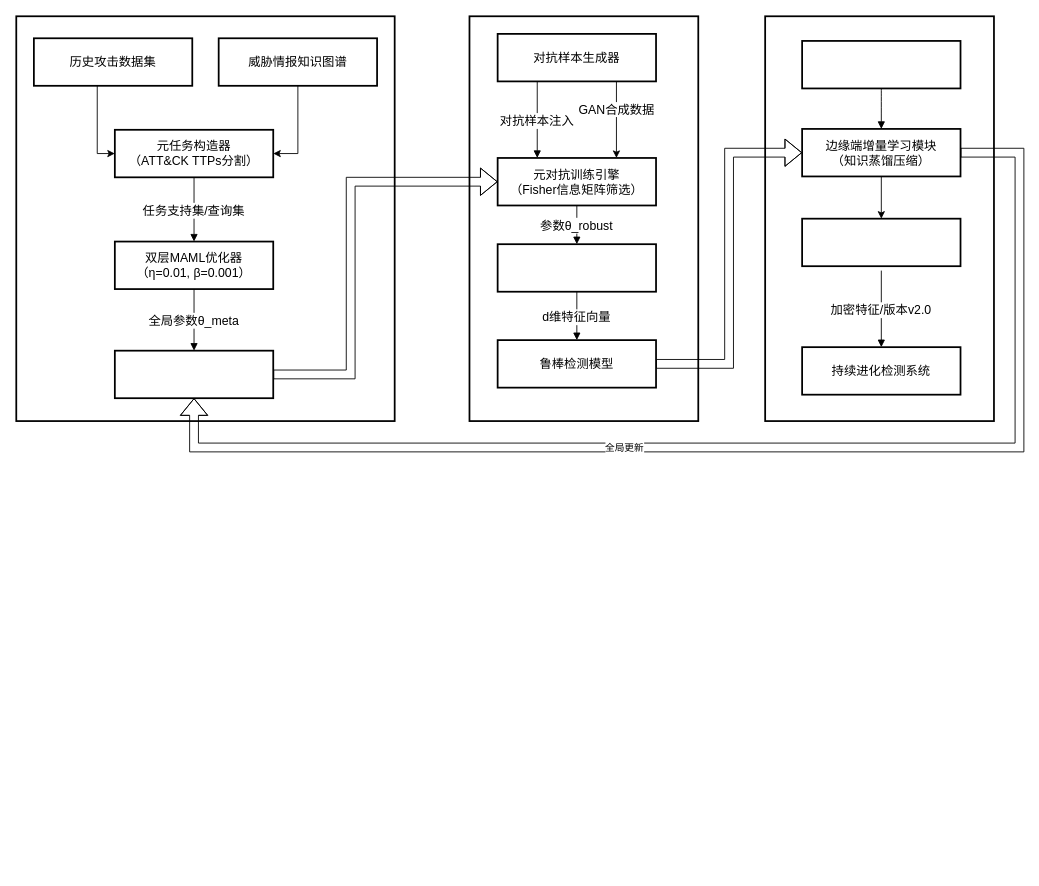
The diagram is 1039 pixels wide and 886 high, and some of its shapes have lost their labels. The shapes that lost their labels are listed below. From the top down, each one's box as (x1, y1, x2, y2) in pixels, then its label:
(801, 40, 961, 89): 新型攻击样本
(801, 217, 961, 267): 云端联邦进化系统 （Δt=24小时重训练）
(496, 243, 656, 292): 语义不变特征提取器 （Smith-Waterman算法）
(114, 349, 274, 399): 元知识库
